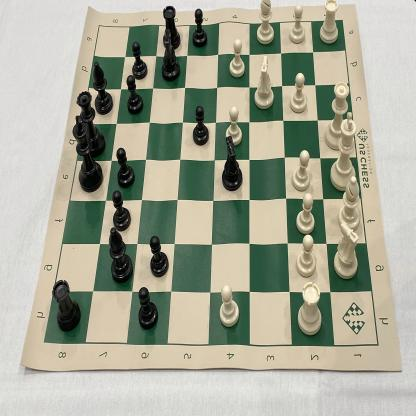black-bishop: (109, 226, 133, 284), (94, 60, 112, 115)
black-king: (72, 114, 103, 191)
black-knight: (220, 134, 245, 192), (162, 27, 180, 82)
black-pawn: (138, 286, 160, 330), (115, 146, 136, 190), (148, 236, 170, 278), (111, 192, 133, 232), (192, 104, 210, 147), (126, 76, 145, 115), (132, 41, 148, 82), (192, 8, 208, 48)
black-queen: (75, 89, 102, 150)
black-rook: (51, 279, 81, 333), (162, 3, 181, 50)
white-bishop: (337, 174, 363, 231), (255, 0, 275, 44)
white-king: (330, 112, 360, 191)
white-knight: (334, 219, 361, 279), (252, 53, 276, 110)
white-pawn: (219, 282, 241, 327), (290, 150, 312, 191), (296, 233, 316, 278), (296, 191, 315, 235), (290, 73, 308, 114), (288, 4, 306, 44), (226, 104, 242, 144), (230, 39, 245, 79)
white-queen: (324, 80, 351, 150)
white-rook: (298, 280, 323, 335), (318, 0, 341, 45)
